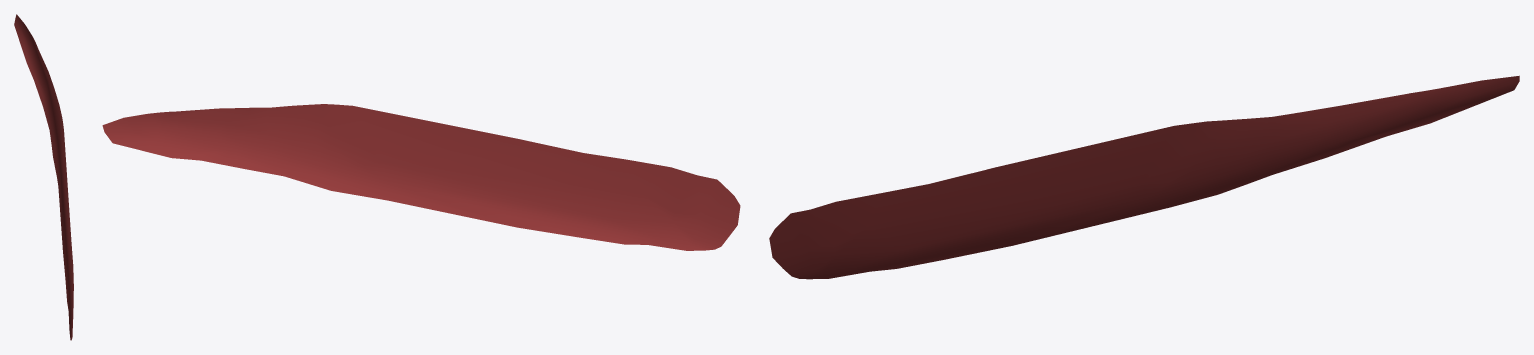
File: external-abdominal-oblique-muscle-ol.glb
The picture shows the model from 3 angles, left to right: view 1: azimuth 30°, elevation 25°; view 2: azimuth 150°, elevation 25°; view 3: azimuth 270°, elevation 25°; orthographic projection. The views are drawn at different scales.
Visible parts, largest first — view 1: External abdominal oblique muscle.ol; view 2: External abdominal oblique muscle.ol; view 3: External abdominal oblique muscle.ol.
Boxes of the visible parts, bbox=[...] form: External abdominal oblique muscle.ol: bbox=[14, 14, 73, 340]; External abdominal oblique muscle.ol: bbox=[102, 104, 740, 250]; External abdominal oblique muscle.ol: bbox=[769, 75, 1519, 279].
Size of the model in its own units: 0.0196 by 0.0232 by 0.0484.
